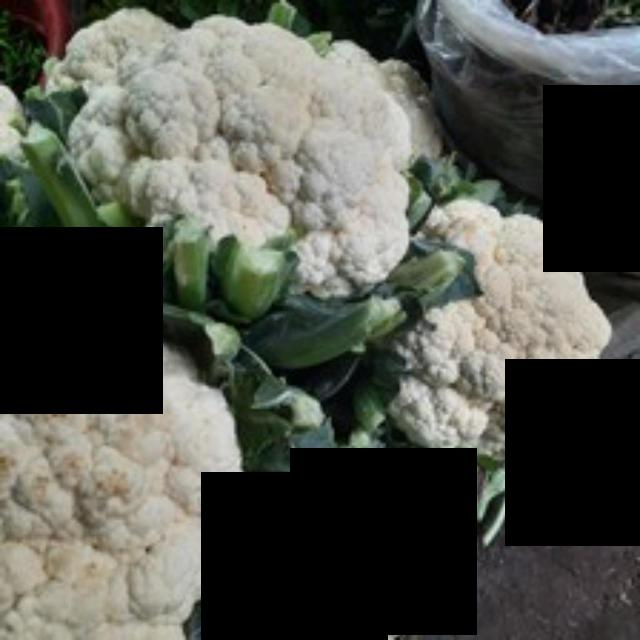cauliflower: (37, 1, 432, 320), (399, 198, 621, 460)
